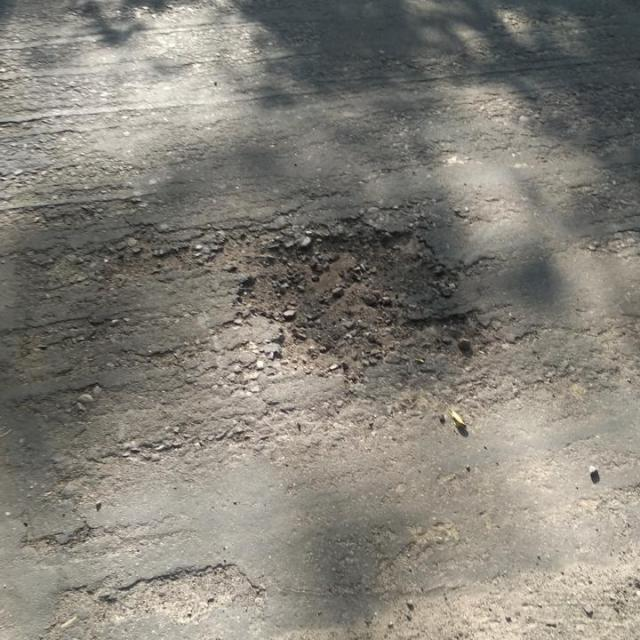Pothole: (230, 221, 470, 375), (106, 557, 255, 625)
